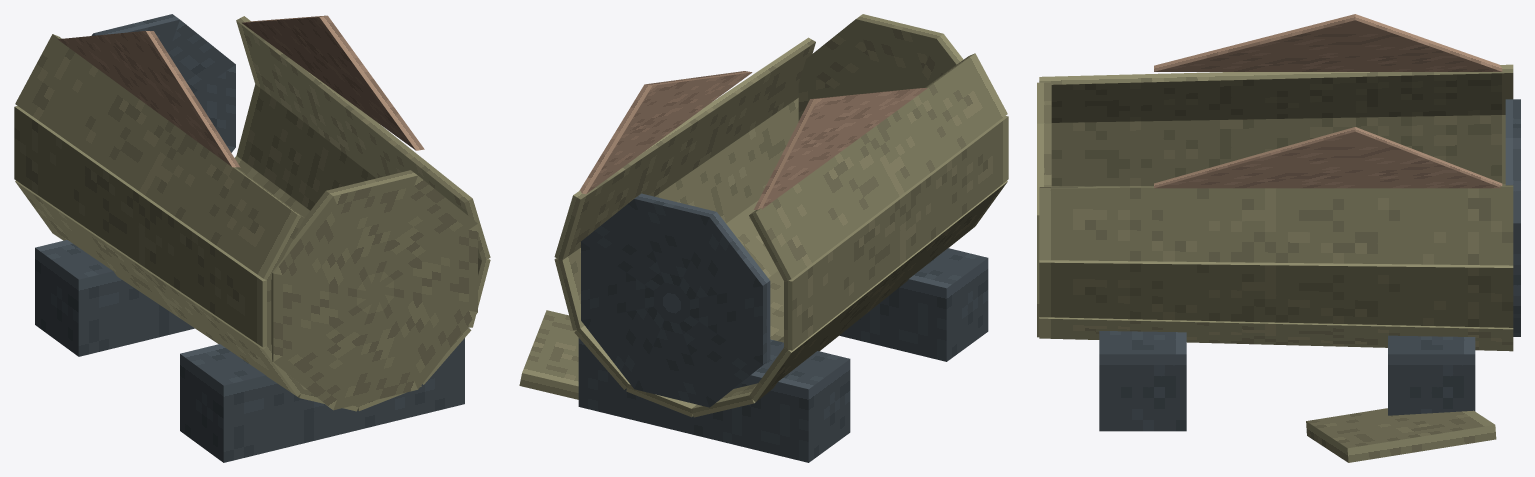
Rendered from f_diesel_tank_smashed.glb.
The picture shows the model from 3 angles, left to right: view 1: azimuth 30°, elevation 25°; view 2: azimuth 150°, elevation 25°; view 3: azimuth 270°, elevation 25°; orthographic projection. The views are drawn at different scales.
Visible parts, largest first — view 1: block_dented-shell-panel (×6), block_crushed-endcap, block_saddle-0.25, block_peeled-metal-edge (×2), block_saddle--0.28, block_dark-endcap; view 2: block_dented-shell-panel (×8), block_dark-endcap, block_saddle--0.28, block_peeled-metal-edge (×2), block_saddle-0.25, block_crushed-endcap, block_torn-fragment; view 3: block_dented-shell-panel (×5), block_peeled-metal-edge (×2), block_saddle-0.25, block_torn-fragment, block_saddle--0.28, block_dark-endcap, block_crushed-endcap.
Boxes of the visible parts, x1,y1,x2,y2 form: block_dented-shell-panel (×6): (14, 16, 490, 396); block_crushed-endcap: (271, 170, 477, 410); block_saddle-0.25: (180, 338, 464, 462); block_peeled-metal-edge (×2): (58, 15, 424, 167); block_saddle--0.28: (35, 240, 194, 356); block_dark-endcap: (91, 14, 235, 152); block_dented-shell-panel (×8): (554, 37, 1008, 417); block_dark-endcap: (581, 193, 770, 407); block_saddle--0.28: (578, 338, 850, 462); block_peeled-metal-edge (×2): (579, 71, 927, 209); block_saddle-0.25: (839, 248, 988, 361); block_crushed-endcap: (798, 14, 963, 120); block_torn-fragment: (519, 310, 578, 399); block_dented-shell-panel (×5): (1039, 64, 1513, 351); block_peeled-metal-edge (×2): (1154, 14, 1502, 188); block_saddle-0.25: (1099, 331, 1186, 431); block_torn-fragment: (1306, 408, 1496, 462); block_saddle--0.28: (1388, 335, 1475, 415); block_dark-endcap: (1505, 99, 1520, 336); block_crushed-endcap: (1037, 82, 1051, 337).
Size of the model in its own units: 0.7248 by 0.6624 by 0.8885.
Materials: 1 (1 with a texture image).
